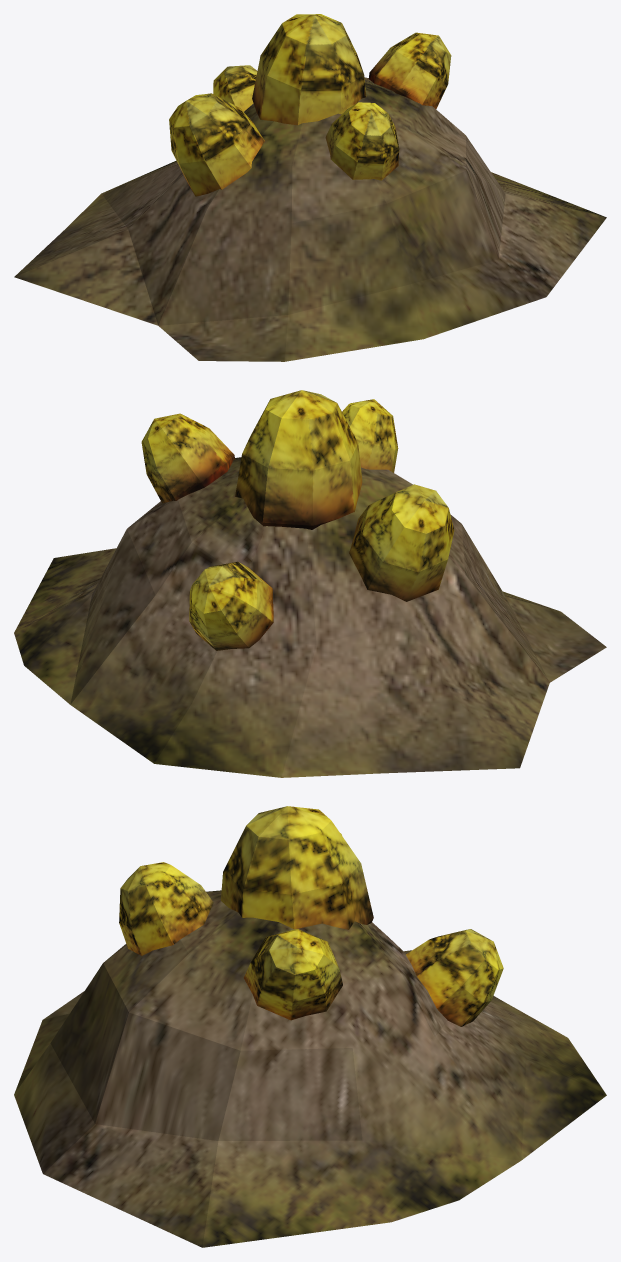
Rendered from SpiderEgg.fbx.
3 views of the same model, one above another, from view 1: azimuth 30°, elevation 25°; view 2: azimuth 150°, elevation 25°; view 3: azimuth 270°, elevation 25° (orthographic). The views are drawn at different scales.
Visible parts, largest first — view 1: Base, Egg, Egg.001, Egg.003, Egg.002, Egg.004; view 2: Base, Egg, Egg.001, Egg.004, Egg.002, Egg.003; view 3: Base, Egg, Egg.002, Egg.003, Egg.004.
Part boxes in pixels (<box>): Base: <box>14,77,606,361</box>; Egg: <box>252,14,366,125</box>; Egg.001: <box>169,93,264,196</box>; Egg.003: <box>325,102,399,180</box>; Egg.002: <box>368,32,451,108</box>; Egg.004: <box>213,65,257,111</box>; Base: <box>14,457,606,777</box>; Egg: <box>235,390,362,529</box>; Egg.001: <box>349,484,454,601</box>; Egg.004: <box>189,561,273,650</box>; Egg.002: <box>141,413,234,503</box>; Egg.003: <box>342,399,398,472</box>; Base: <box>14,890,606,1247</box>; Egg: <box>221,806,373,929</box>; Egg.002: <box>244,929,342,1020</box>; Egg.003: <box>119,862,213,955</box>; Egg.004: <box>406,929,503,1026</box>.
Bounding box in the file's own units: 190 × 86.52 × 160.
1 material, 1 textured.
